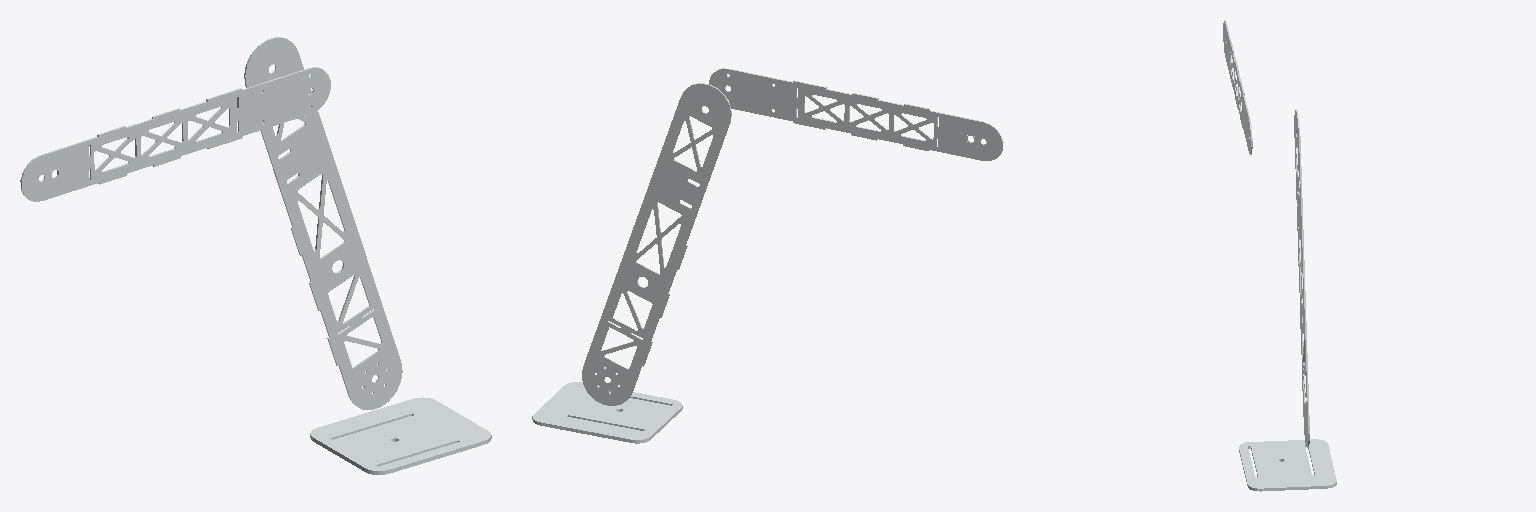
The robot description file, URDF, robot "AssemblyV4_2.SLDASM":
<robot
  name="AssemblyV4_2.SLDASM">
  <link
    name="base_link">
    <inertial>
      <origin
        xyz="0.17559 0.18806 0.088068"
        rpy="0 0 0" />
      <mass
        value="0.70338" />
      <inertia
        ixx="0"
        ixy="0"
        ixz="0"
        iyy="0"
        iyz="0"
        izz="0" />
    </inertial>
    <visual>
      <origin
        xyz="0 0 0"
        rpy="0 0 0" />
      <geometry>
        <mesh
          filename="package://AssemblyV4_2.SLDASM/meshes/base_link.STL" />
      </geometry>
      <material
        name="">
        <color
          rgba="0.89804 0.91765 0.92941 1" />
      </material>
    </visual>
    <collision>
      <origin
        xyz="0 0 0"
        rpy="0 0 0" />
      <geometry>
        <mesh
          filename="package://AssemblyV4_2.SLDASM/meshes/base_link.STL" />
      </geometry>
    </collision>
  </link>
  <link
    name="link1">
    <inertial>
      <origin
        xyz="0.30285 -0.051147 0.001632"
        rpy="0 0 0" />
      <mass
        value="0.45227" />
      <inertia
        ixx="0"
        ixy="0"
        ixz="0"
        iyy="0"
        iyz="0"
        izz="0" />
    </inertial>
    <visual>
      <origin
        xyz="0 0 0"
        rpy="0 0 0" />
      <geometry>
        <mesh
          filename="package://AssemblyV4_2.SLDASM/meshes/link1.STL" />
      </geometry>
      <material
        name="">
        <color
          rgba="0.89804 0.91765 0.92941 1" />
      </material>
    </visual>
    <collision>
      <origin
        xyz="0 0 0"
        rpy="0 0 0" />
      <geometry>
        <mesh
          filename="package://AssemblyV4_2.SLDASM/meshes/link1.STL" />
      </geometry>
    </collision>
  </link>
  <joint
    name="joint1"
    type="revolute">
    <origin
      xyz="0.19954 -0.046817 0.2901"
      rpy="1.5708 -1.246 -3.0413" />
    <parent
      link="base_link" />
    <child
      link="link1" />
    <axis
      xyz="0 0 -1" />
    <limit
      lower="0"
      upper="4"
      effort="0"
      velocity="0" />
  </joint>
  <link
    name="link2">
    <inertial>
      <origin
        xyz="0.24497 -0.059159 4.8233E-08"
        rpy="0 0 0" />
      <mass
        value="0.31845" />
      <inertia
        ixx="0"
        ixy="0"
        ixz="0"
        iyy="0"
        iyz="0"
        izz="0" />
    </inertial>
    <visual>
      <origin
        xyz="0 0 0"
        rpy="0 0 0" />
      <geometry>
        <mesh
          filename="package://AssemblyV4_2.SLDASM/meshes/link2.STL" />
      </geometry>
      <material
        name="">
        <color
          rgba="0.89804 0.91765 0.92941 1" />
      </material>
    </visual>
    <collision>
      <origin
        xyz="0 0 0"
        rpy="0 0 0" />
      <geometry>
        <mesh
          filename="package://AssemblyV4_2.SLDASM/meshes/link2.STL" />
      </geometry>
    </collision>
  </link>
  <joint
    name="link2"
    type="continuous">
    <origin
      xyz="0.599999999999997 -0.0507999999999982 -0.0377228088823819"
      rpy="1.5707963267949 -4.9960036108132E-16 -1.26387673761476" />
    <parent
      link="link1" />
    <child
      link="link2" />
    <axis
      xyz="0 -1 0" />
  </joint>
</robot>

--- Render facts (derived) ---
3 views of the same robot in one strip: view 1: azimuth 30°, elevation 25°; view 2: azimuth 150°, elevation 25°; view 3: azimuth 270°, elevation 25° (orthographic).
Robot: AssemblyV4_2.SLDASM — 3 links, 2 joints (1 revolute, 1 continuous); root link base_link; default pose: all joints at 0.
Visible links, largest first — view 1: link1, link2, base_link; view 2: link1, link2, base_link; view 3: base_link, link1, link2.
Boxes of the visible links, box(x1,y1,x2,y2) form: link1: box(244, 37, 402, 409); link2: box(20, 67, 330, 201); base_link: box(310, 397, 491, 474); link1: box(582, 83, 731, 405); link2: box(709, 68, 1003, 160); base_link: box(532, 382, 682, 443); base_link: box(1239, 439, 1336, 491); link1: box(1294, 110, 1309, 447); link2: box(1223, 20, 1252, 154).
Size in the robot's own frame: 0.8592 by 0.2349 by 0.708 metres.
3 mesh visuals loaded from 3 distinct referenced files (3 binary STL).